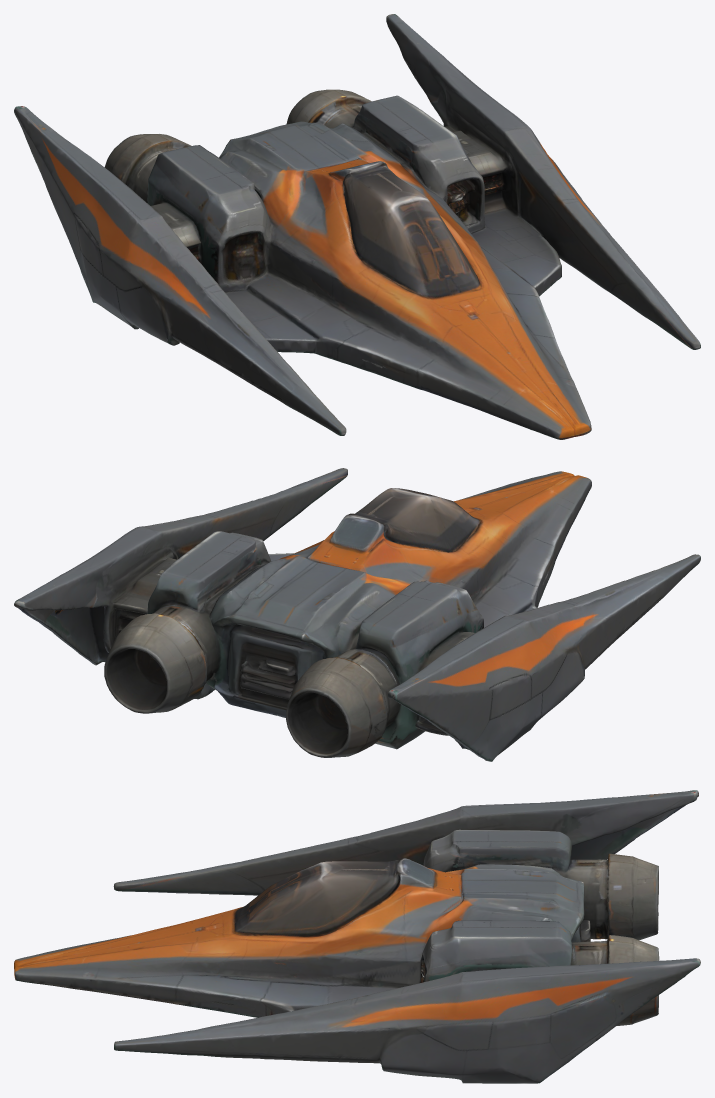
Rendered from Nova Fang.glb.
The picture shows the model from 3 angles, top to bottom: view 1: azimuth 30°, elevation 25°; view 2: azimuth 150°, elevation 25°; view 3: azimuth 270°, elevation 25°; orthographic projection. The views are drawn at different scales.
Size of the model in its own units: 1.34 by 0.4254 by 2.
Materials: 1 (1 with a texture image).
